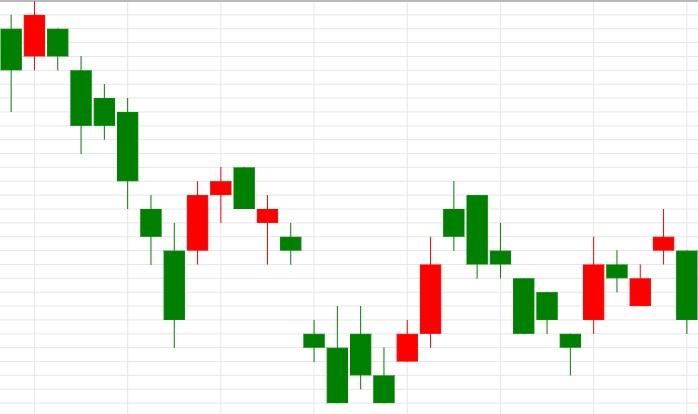hammer_rise: (442, 181, 582, 376)
